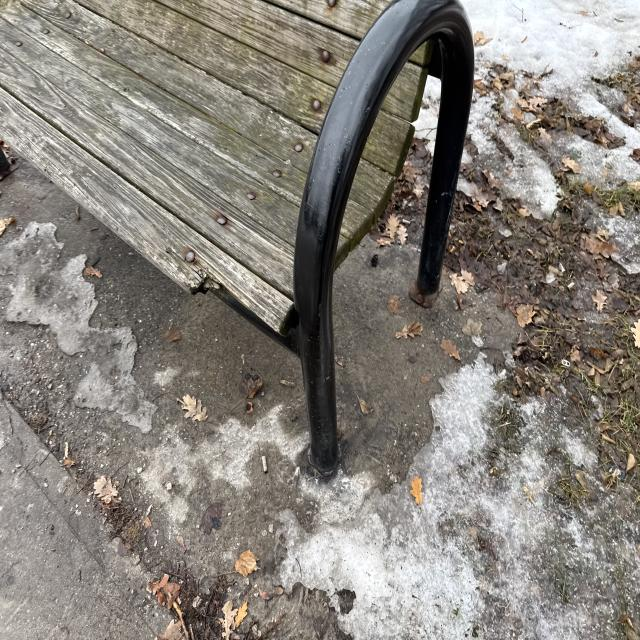Bench: (75, 0, 502, 469)
